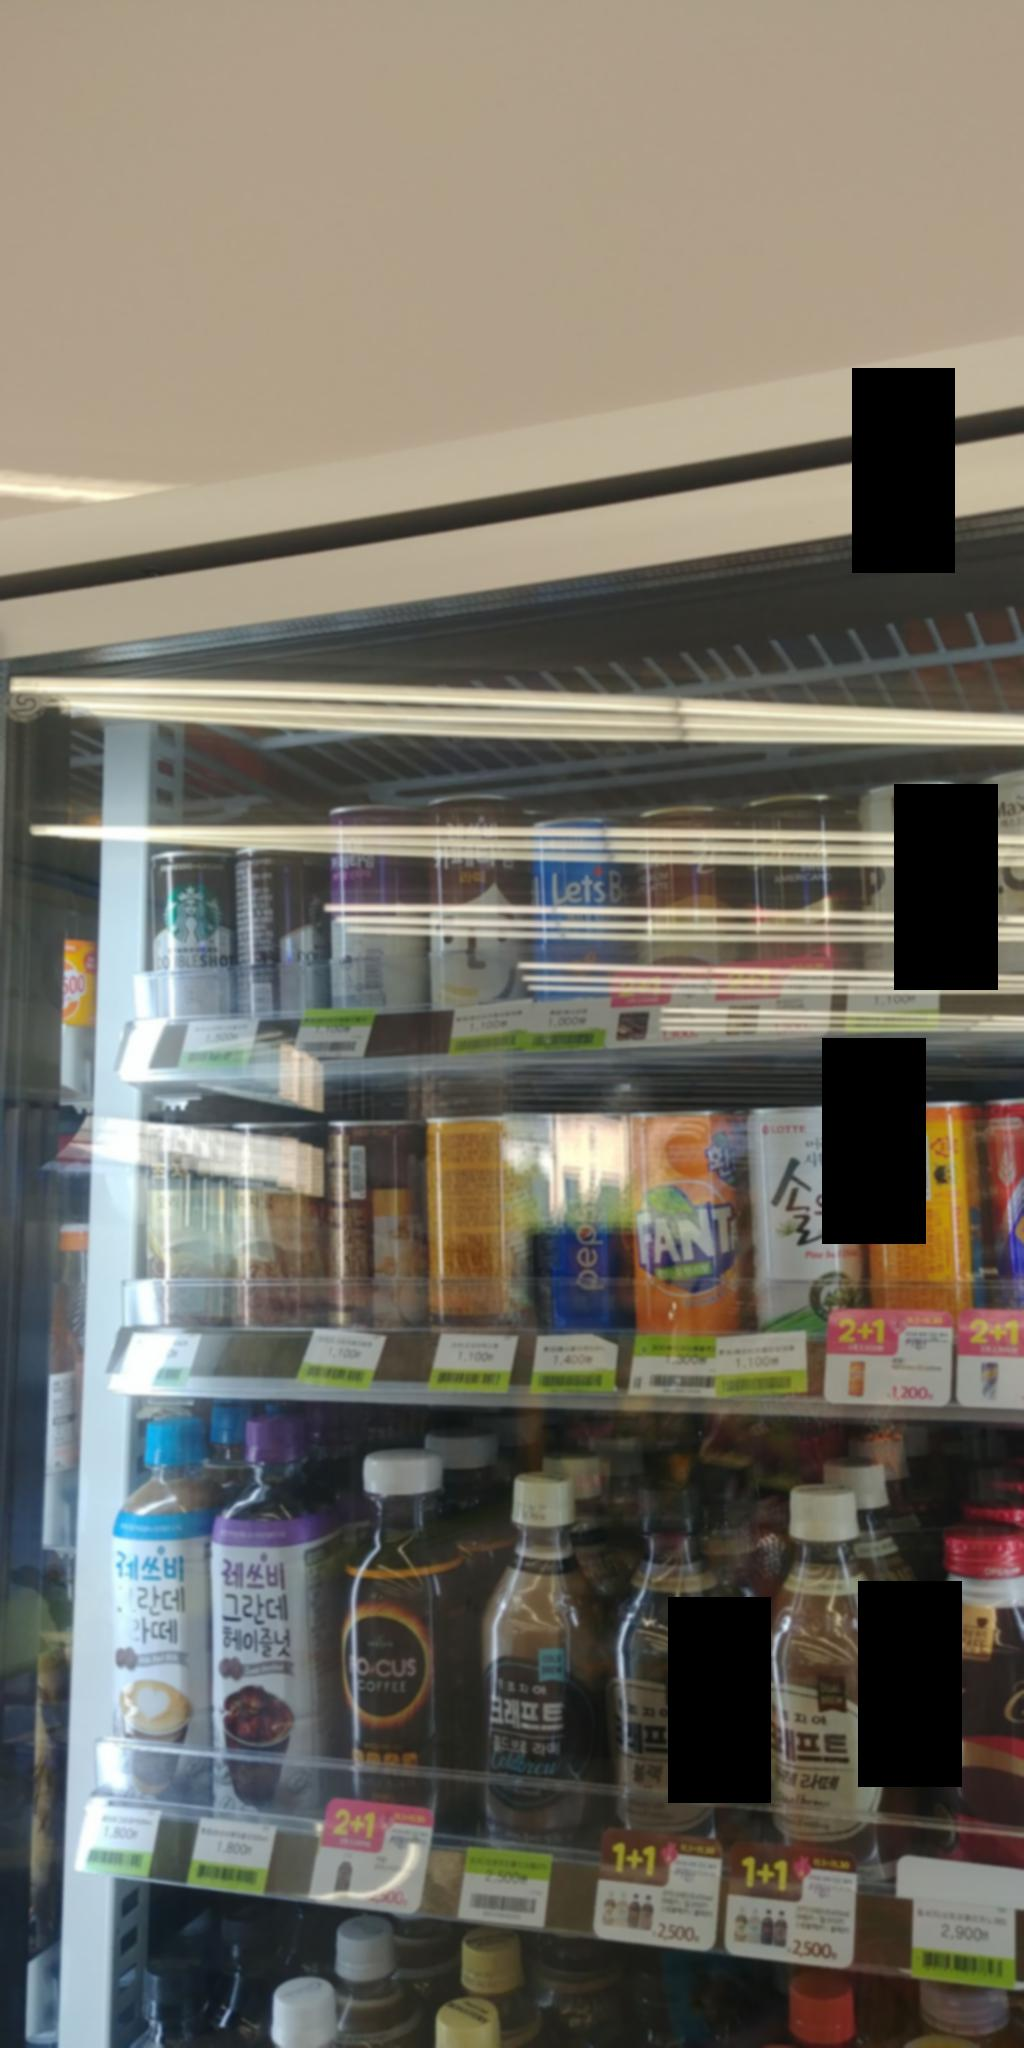georgiacraft_black: (592, 1489, 752, 1860)
letsbe: (509, 805, 632, 1025)
letsbe_grande_hazelnut: (192, 1398, 354, 1830)
